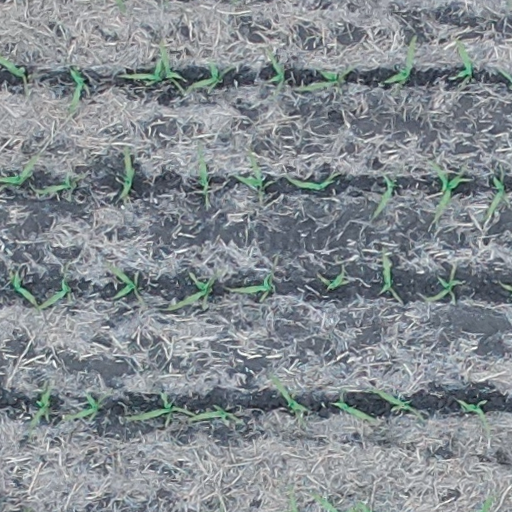planta: (123, 387, 198, 428), (426, 157, 469, 228), (165, 267, 223, 313), (366, 384, 425, 425), (265, 370, 310, 419), (378, 34, 419, 87), (292, 62, 357, 95), (228, 147, 269, 196), (324, 388, 379, 424), (182, 56, 235, 93), (421, 263, 467, 305), (61, 388, 114, 423), (228, 268, 277, 305), (32, 269, 73, 312), (366, 171, 398, 225), (31, 170, 89, 199), (185, 401, 244, 428), (377, 248, 405, 304), (107, 261, 144, 302), (156, 41, 185, 93), (64, 63, 93, 114), (118, 55, 165, 86), (454, 396, 491, 435), (480, 172, 509, 221), (25, 382, 54, 431), (115, 143, 138, 202), (281, 170, 340, 193), (7, 267, 40, 306), (452, 38, 477, 88), (193, 143, 212, 208), (263, 48, 288, 87), (314, 268, 348, 291)
